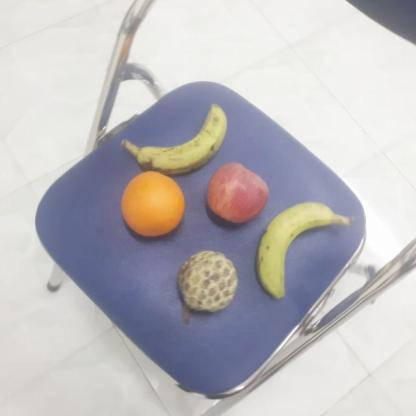annona: (174, 250, 243, 312)
apple: (202, 162, 268, 224)
banana: (254, 197, 335, 300), (132, 104, 230, 172)
orange: (120, 168, 188, 238)
